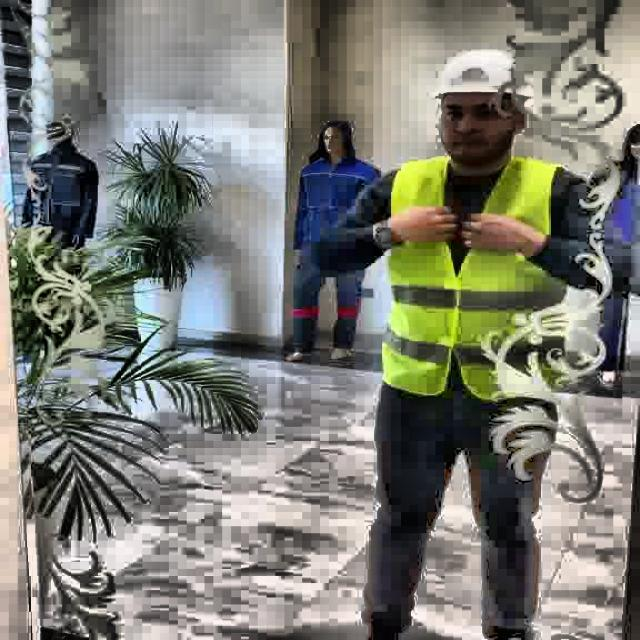safety_helmet: (436, 48, 534, 102)
safety_jacket: (378, 150, 566, 398)
